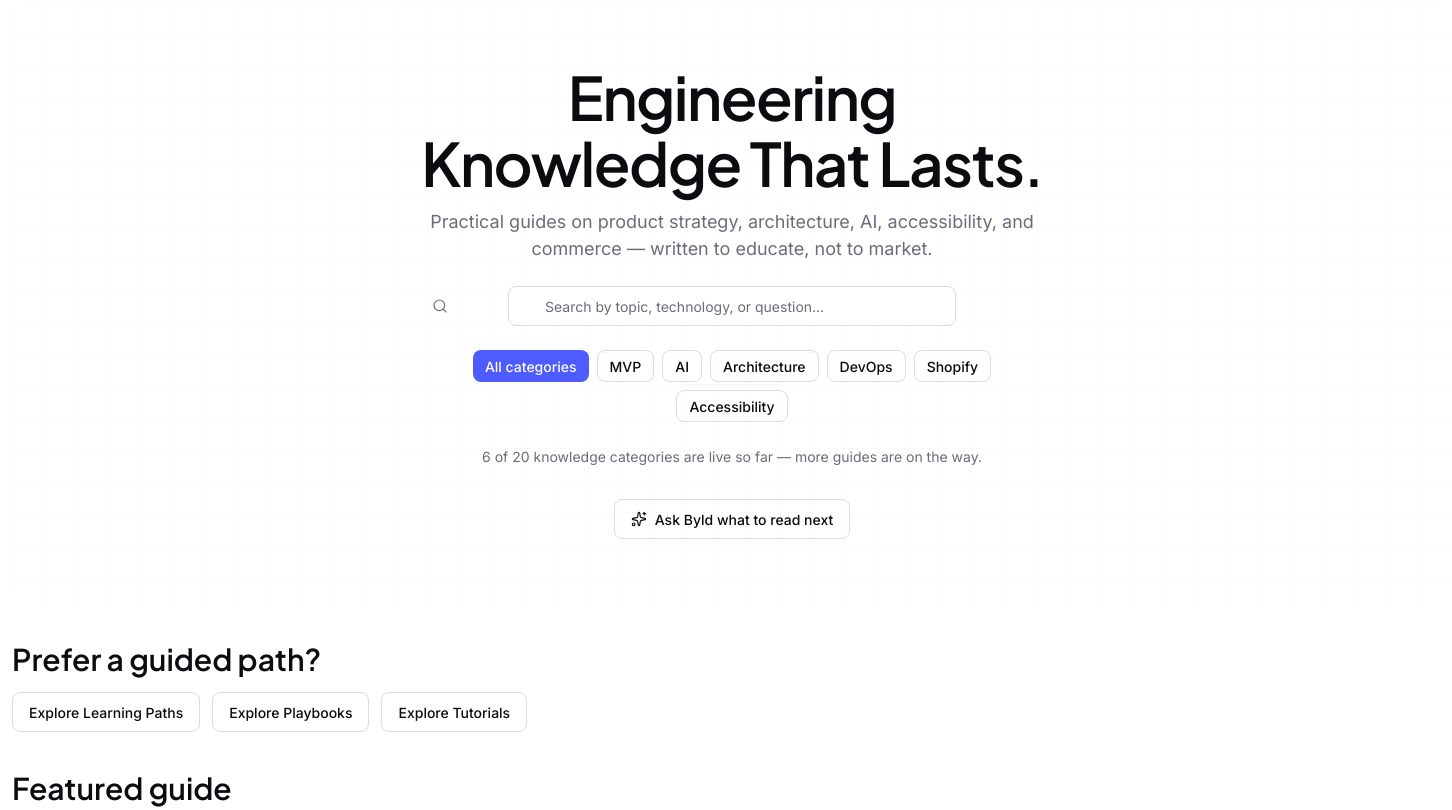
Test: KnowledgeExplorer › shows an educational empty state when nothing matches
Type "zzqzzqzz flibbergibbet" into the search field named "search the knowledge center" at (732, 306), box x1=508 y1=286 x2=956 y2=326
(page scrolled)
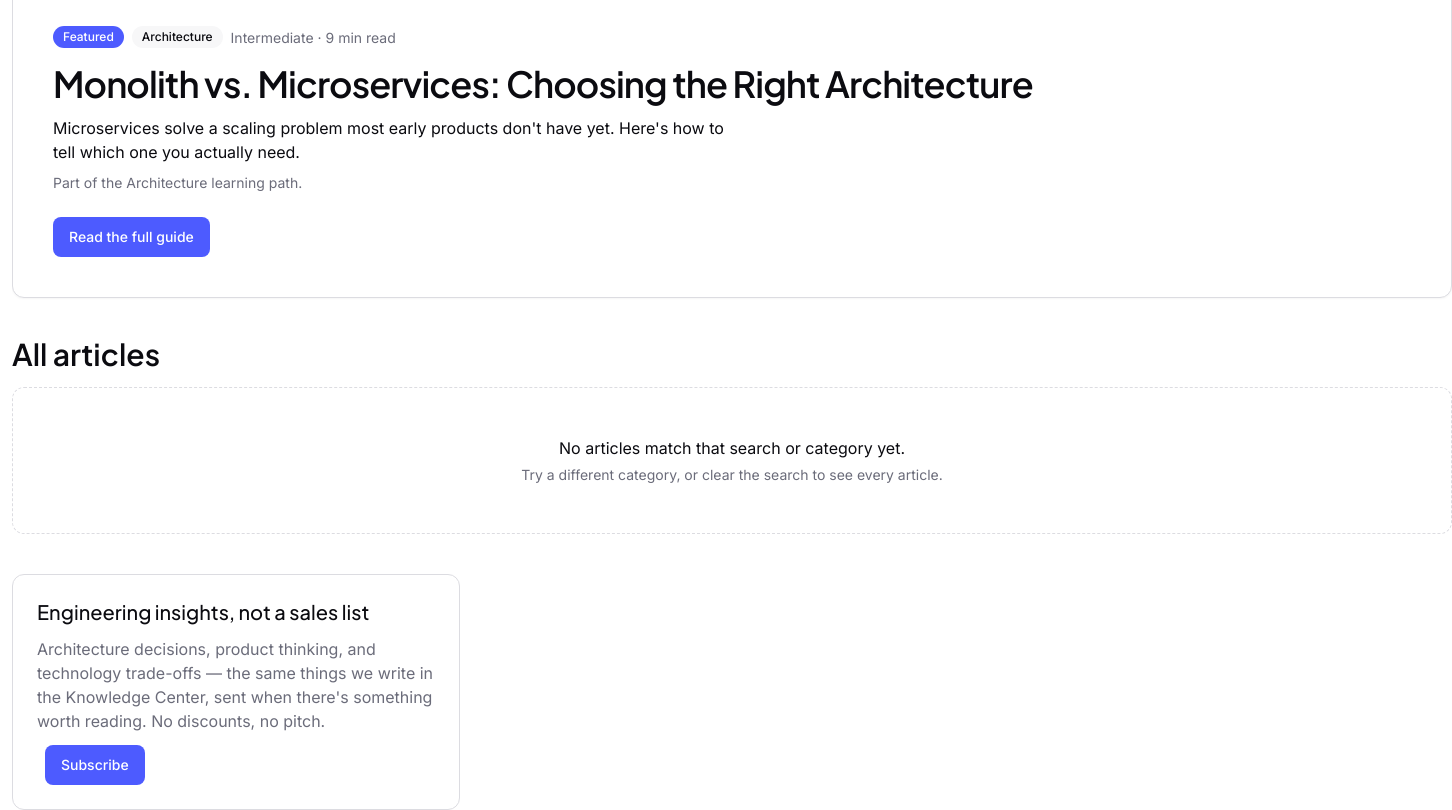
Expected: the text "No articles match that search or category yet." is shown, x1=559 y1=438 x2=905 y2=458
